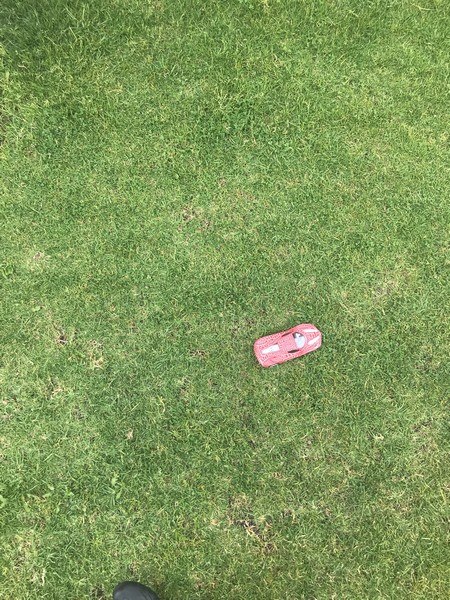RC: (252, 322, 325, 367)
